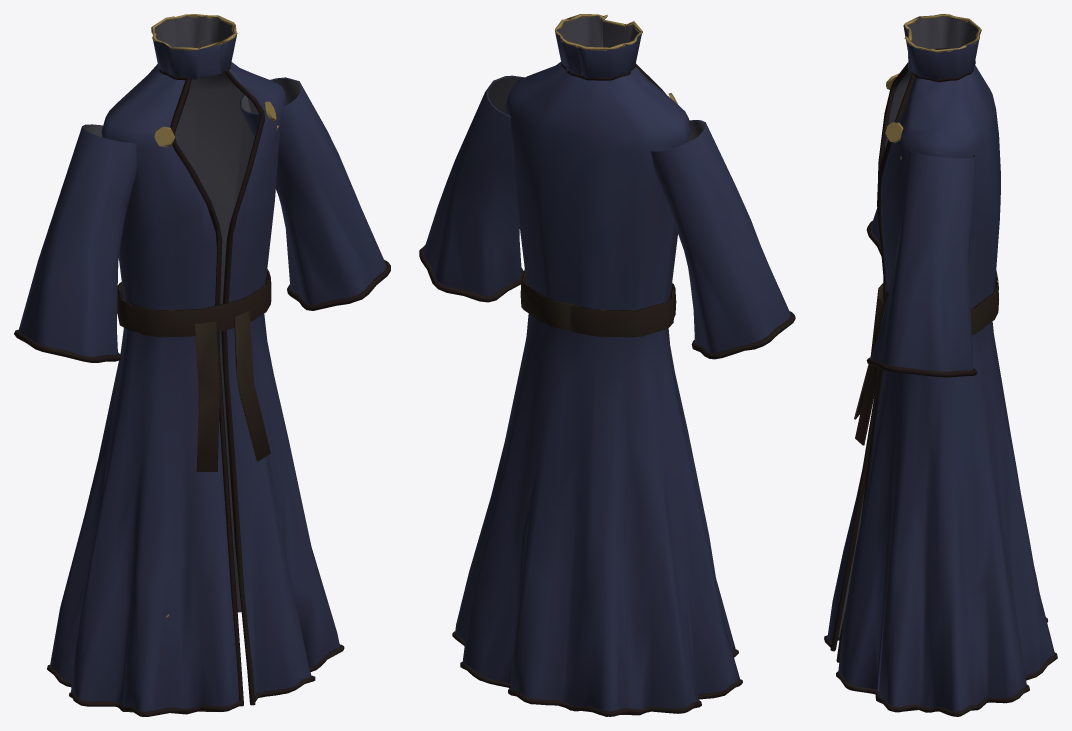
3 renders of one model, left to right at view 1: azimuth 30°, elevation 25°; view 2: azimuth 150°, elevation 25°; view 3: azimuth 270°, elevation 25°, orthographic.
Parts seen in each view (by area): view 1: woven wool, peened pin; view 2: woven wool, peened pin; view 3: woven wool, peened pin.
Boxes of the visible parts, x1,y1,x2,y2 form: woven wool: (14, 15, 390, 716); peened pin: (151, 14, 278, 618); woven wool: (419, 15, 795, 716); peened pin: (555, 14, 677, 104); woven wool: (824, 16, 1057, 716); peened pin: (885, 14, 981, 159).
Size of the model in its own units: 0.8672 by 1.49 by 0.5018.
